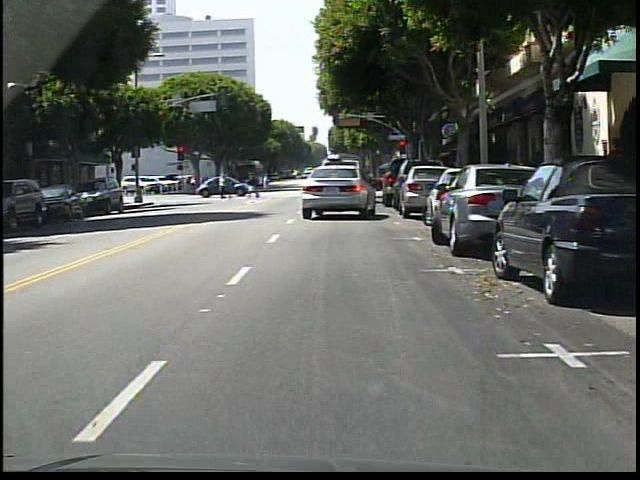person: (606, 140, 639, 222), (247, 171, 260, 200), (218, 174, 231, 198), (267, 174, 268, 192)
